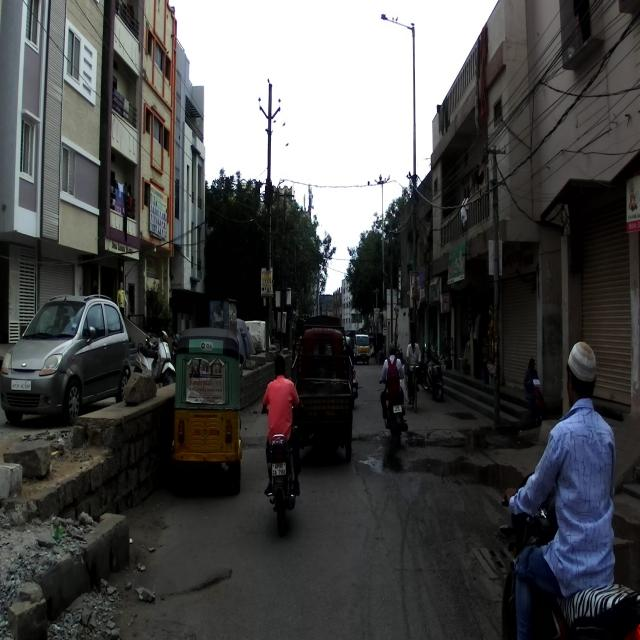Car_Chevrolet: (0, 292, 131, 426)
autorickshaw: (170, 327, 243, 494), (291, 316, 353, 478)
motorcycle: (378, 373, 408, 445)
motorcycle_Hero: (260, 397, 303, 536)
scooter: (133, 342, 173, 384)
truck: (354, 329, 370, 366)
